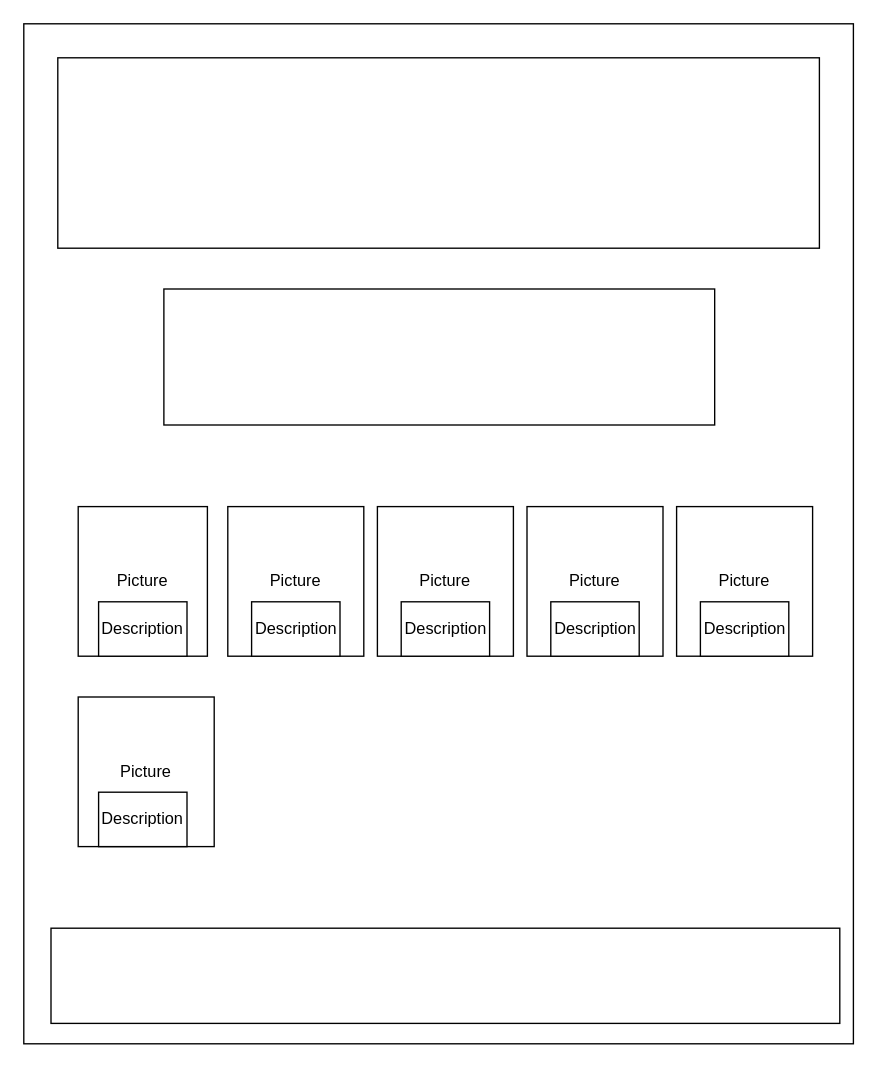
Image size: 877x1068. Some labels were removed from this diagram. The shapes that lost their labels are listed below. From the top down, each one's centre as x and y in pixels, then its label:
At [437,152]: "HEADER".
At [439,356]: "HEADING".
At [445,975]: "FOOTER".
